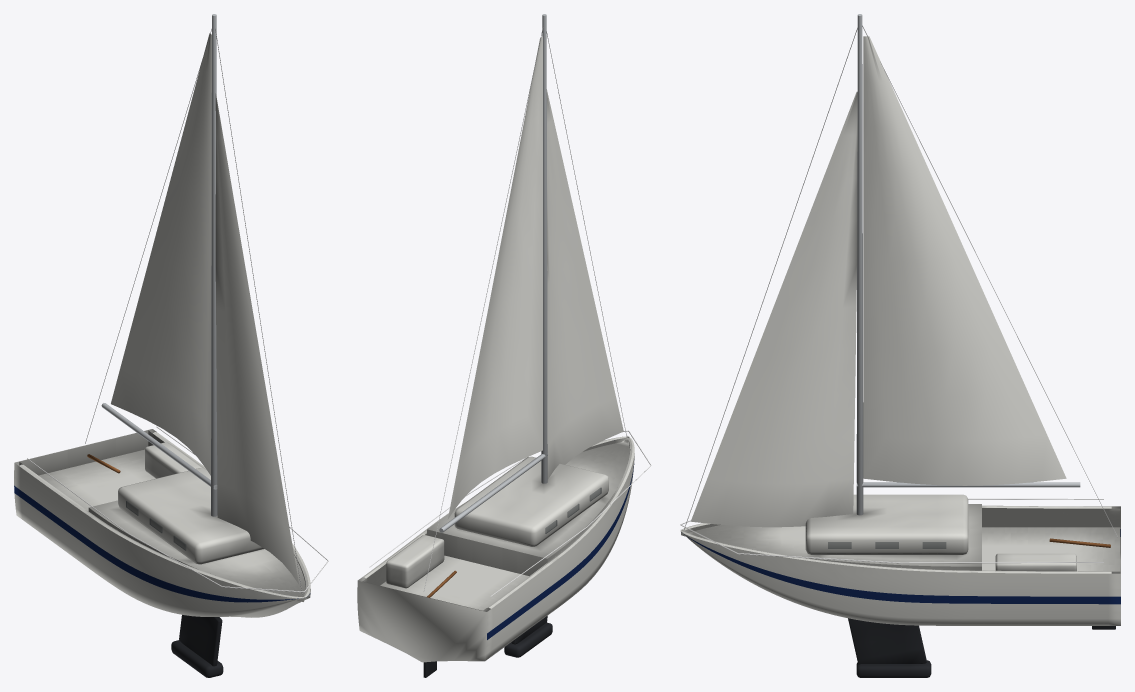
The model's file is boat-yacht.glb.
The picture shows the model from 3 angles, left to right: view 1: azimuth 30°, elevation 25°; view 2: azimuth 150°, elevation 25°; view 3: azimuth 270°, elevation 25°; orthographic projection. The views are drawn at different scales.
Parts seen in each view (by area): view 1: body; view 2: body; view 3: body.
Part boxes in pixels (left/top/right/bottom): body: left=14, top=14, right=328, bottom=677; body: left=357, top=14, right=651, bottom=677; body: left=680, top=14, right=1120, bottom=677.
Bounding box in the file's own units: 2.36 × 10.75 × 6.51.
